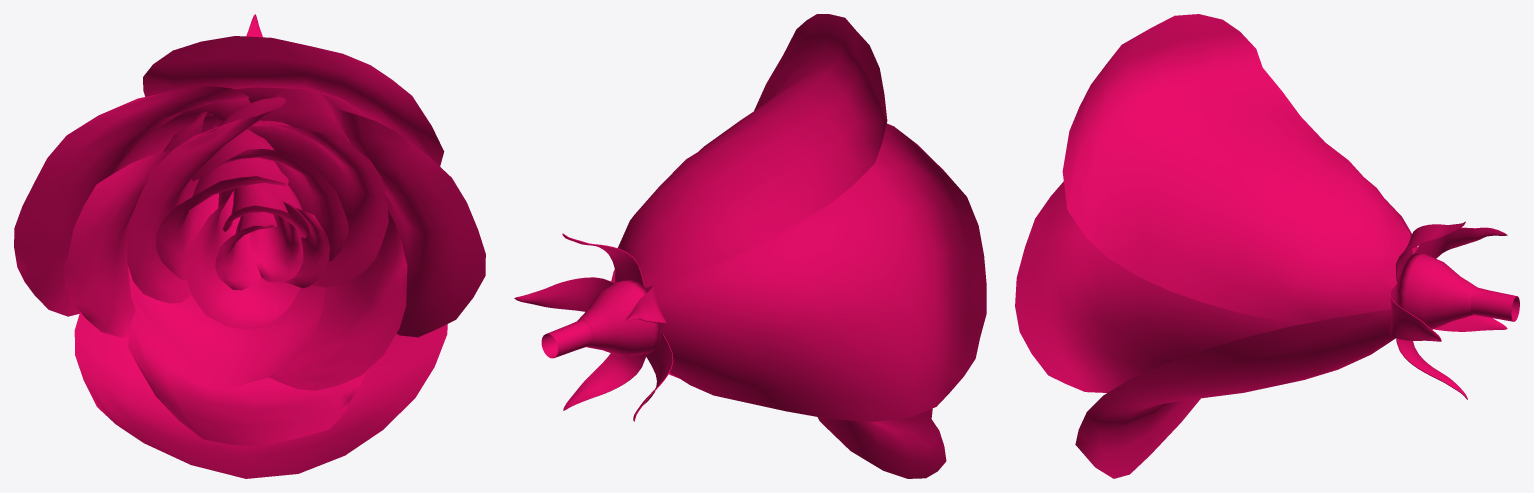
File: HF _Rose_05.fbx
The picture shows the model from 3 angles, left to right: view 1: azimuth 30°, elevation 25°; view 2: azimuth 150°, elevation 25°; view 3: azimuth 270°, elevation 25°; orthographic projection.
Parts seen in each view (by area): view 1: 玫瑰花; view 2: 玫瑰花; view 3: 玫瑰花.
Boxes of the visible parts, x1,y1,x2,y2 form: 玫瑰花: [14, 14, 485, 478]; 玫瑰花: [514, 14, 986, 478]; 玫瑰花: [1015, 14, 1519, 478].
Bounding box in the file's own units: 12.53 × 13.24 × 13.74.
